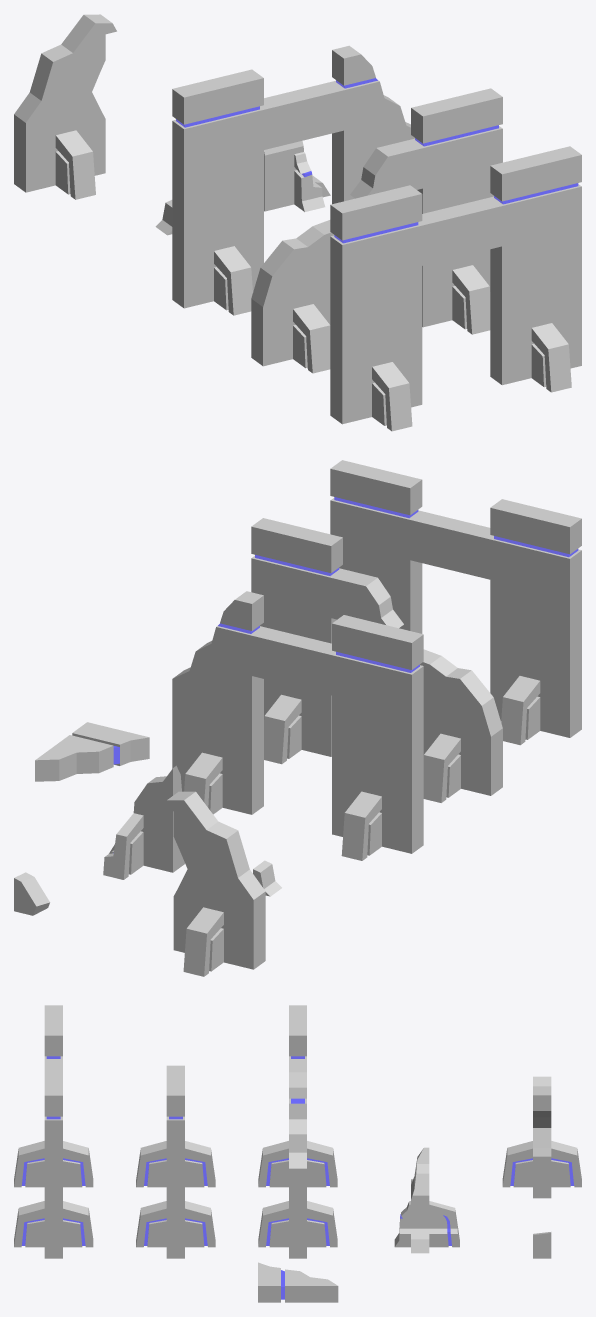
Rendered from HengeGates.fbx.
The picture shows the model from 3 angles, top to bottom: view 1: azimuth 30°, elevation 25°; view 2: azimuth 150°, elevation 25°; view 3: azimuth 270°, elevation 25°; orthographic projection. The views are drawn at different scales.
Visible parts, largest first — view 1: Arch, BrokenArch2, BrokenArch1, BrokenArch4, BrokenArch3; view 2: BrokenArch2, Arch, BrokenArch1, BrokenArch4, BrokenArch3, BrokenArch2-Rubble; view 3: Arch, BrokenArch2, BrokenArch1, BrokenArch4, BrokenArch3, BrokenArch2-Rubble.
Boxes of the visible parts, <box> form: Arch: <box>330,146,581,431</box>; BrokenArch2: <box>172,45,414,315</box>; BrokenArch1: <box>251,88,502,373</box>; BrokenArch4: <box>14,14,116,199</box>; BrokenArch3: <box>155,141,330,235</box>; BrokenArch2: <box>172,591,423,860</box>; Arch: <box>330,460,581,745</box>; BrokenArch1: <box>251,518,502,802</box>; BrokenArch4: <box>14,791,265,976</box>; BrokenArch3: <box>103,765,281,896</box>; BrokenArch2-Rubble: <box>35,722,149,781</box>; Arch: <box>14,1005,93,1258</box>; BrokenArch2: <box>258,1005,337,1258</box>; BrokenArch1: <box>136,1065,215,1258</box>; BrokenArch4: <box>502,1076,581,1258</box>; BrokenArch3: <box>394,1147,459,1253</box>; BrokenArch2-Rubble: <box>258,1262,338,1302</box>.
Bounding box in the file's own units: 1041 × 588 × 1860.
